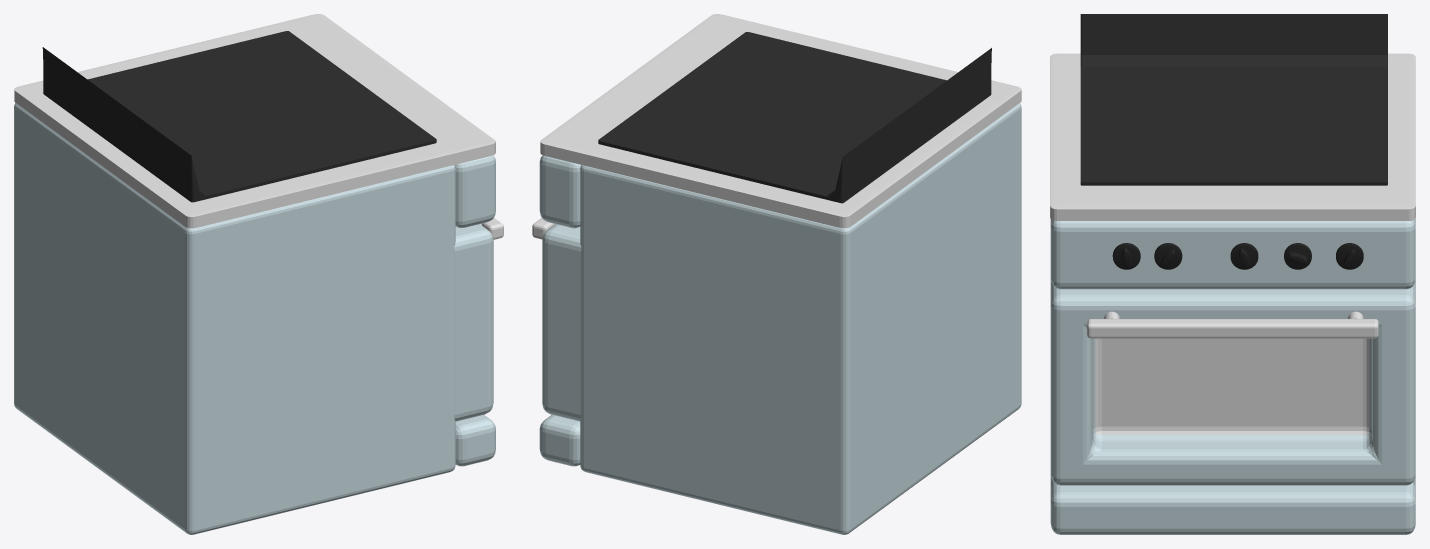
File: oven_001_1x1.fbx
3 views of the same model, side by side, from view 1: azimuth 30°, elevation 25°; view 2: azimuth 150°, elevation 25°; view 3: azimuth 270°, elevation 25° (orthographic). The views are drawn at different scales.
Parts seen in each view (by area): view 1: fırın.001, fırın_kapağı.001; view 2: fırın.001, fırın_kapağı.001; view 3: fırın.001, fırın_kapağı.001.
Part boxes in pixels (<box>): fırın.001: <box>14,14,495,534</box>; fırın_kapağı.001: <box>454,218,503,421</box>; fırın.001: <box>539,14,1021,534</box>; fırın_kapağı.001: <box>532,218,581,421</box>; fırın.001: <box>1050,14,1415,534</box>; fırın_kapağı.001: <box>1050,284,1415,485</box>.
Bounding box in the file's own units: 107 × 112 × 98.08.
